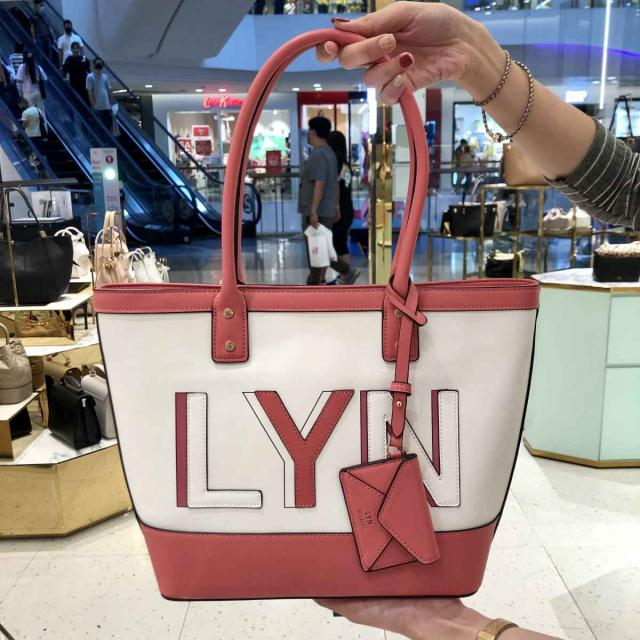handbag: (88, 253, 548, 612)
